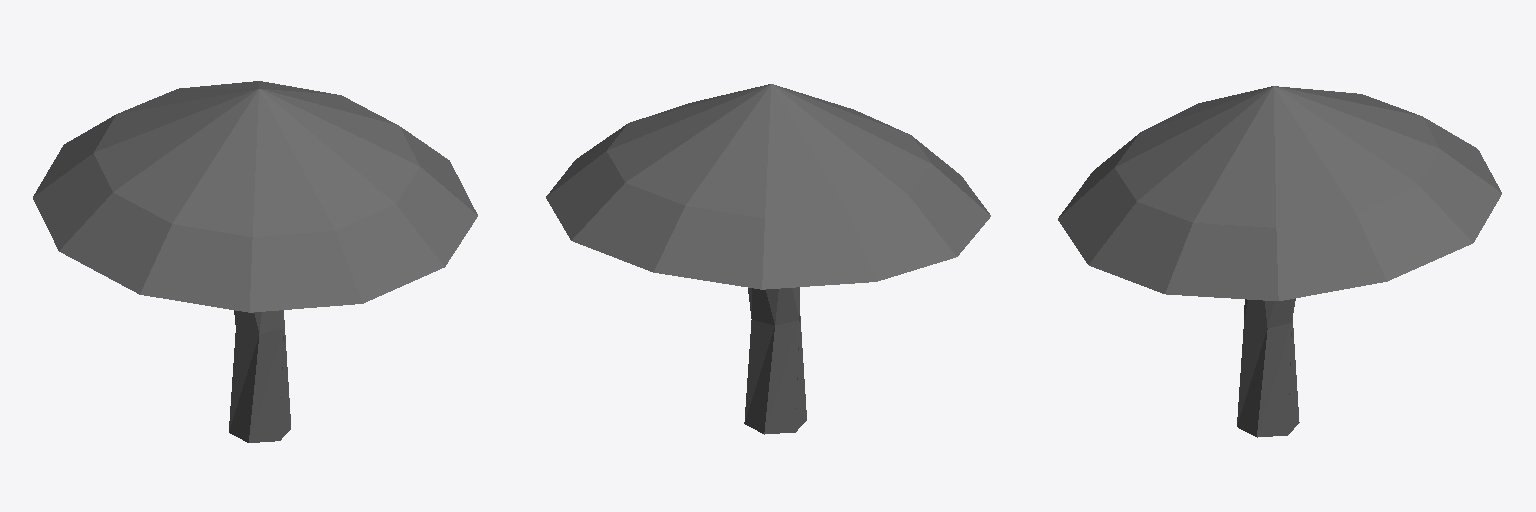
Rendered from Mushroom_1.obj.
The picture shows the model from 3 angles: view 1: azimuth 30°, elevation 25°; view 2: azimuth 150°, elevation 25°; view 3: azimuth 270°, elevation 25°; orthographic projection.
Parts seen in each view (by area): view 1: Cylinder009; view 2: Cylinder009; view 3: Cylinder009.
Boxes of the visible parts, x1,y1,x2,y2 form: Cylinder009: [33, 81, 477, 442]; Cylinder009: [546, 84, 990, 434]; Cylinder009: [1058, 86, 1501, 437].
Size of the model in its own units: 1.14 by 0.9542 by 1.13.